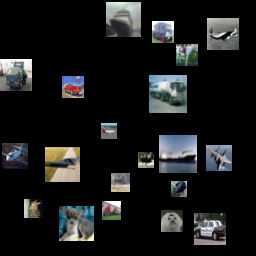airplane: (45, 147, 80, 182), (207, 18, 239, 50), (206, 145, 232, 171), (2, 143, 28, 169), (101, 123, 117, 139)
automobile: (194, 213, 226, 245), (62, 76, 84, 98)
bird: (171, 181, 187, 197), (138, 152, 154, 168)
cat: (24, 199, 43, 218)
deer: (111, 173, 130, 192)
dog: (59, 206, 94, 241), (161, 210, 183, 232)
ship: (159, 135, 197, 173), (106, 2, 141, 37)
